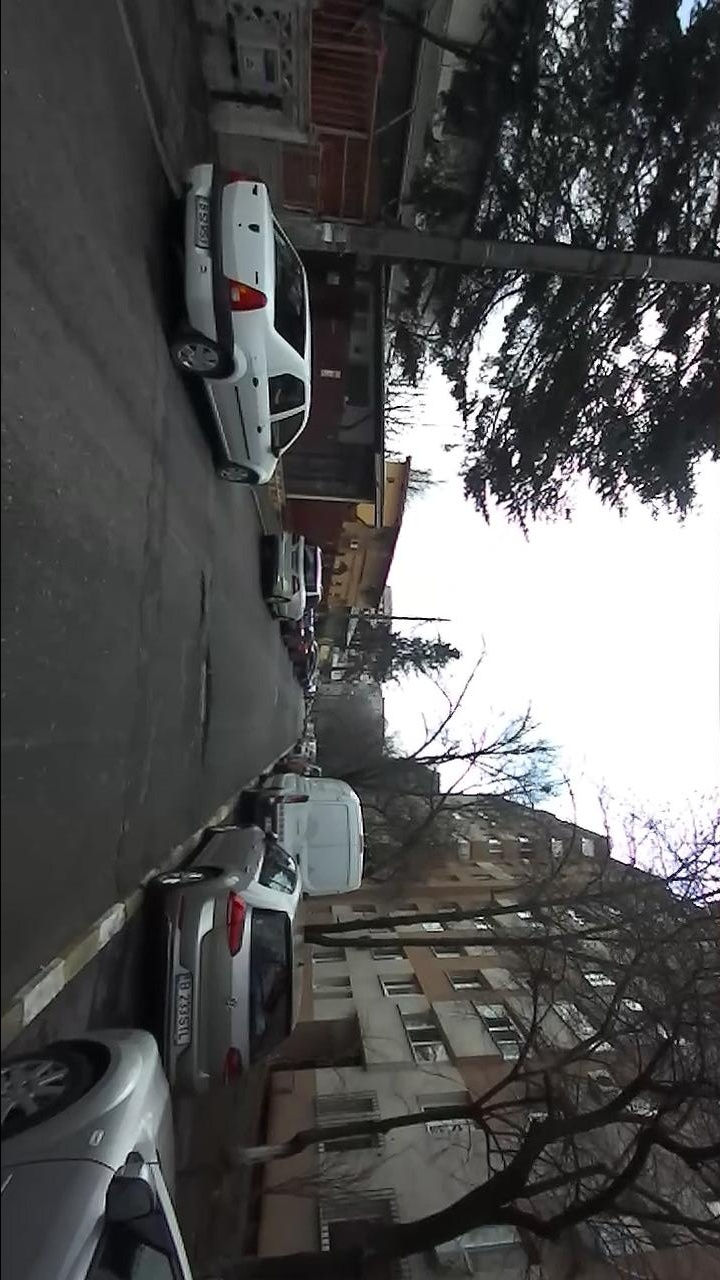pothole: (195, 643, 215, 768), (195, 567, 208, 630)
